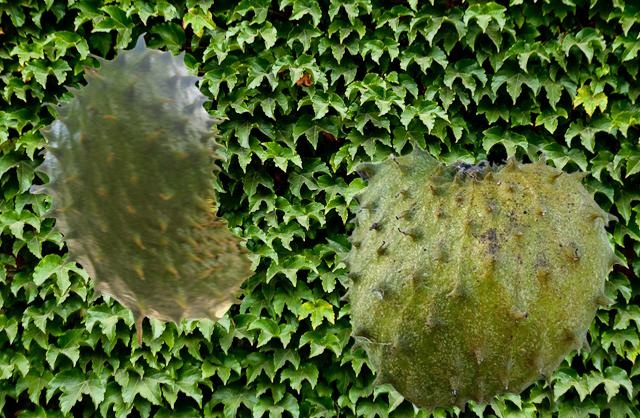guyabano: (337, 139, 624, 412), (29, 32, 255, 347)
